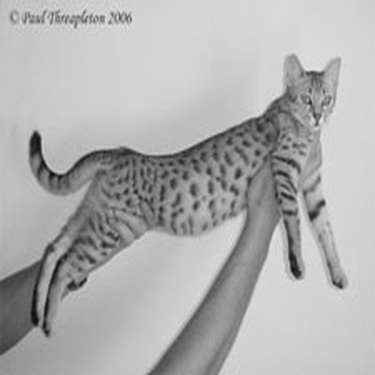cat: (12, 49, 353, 289)
